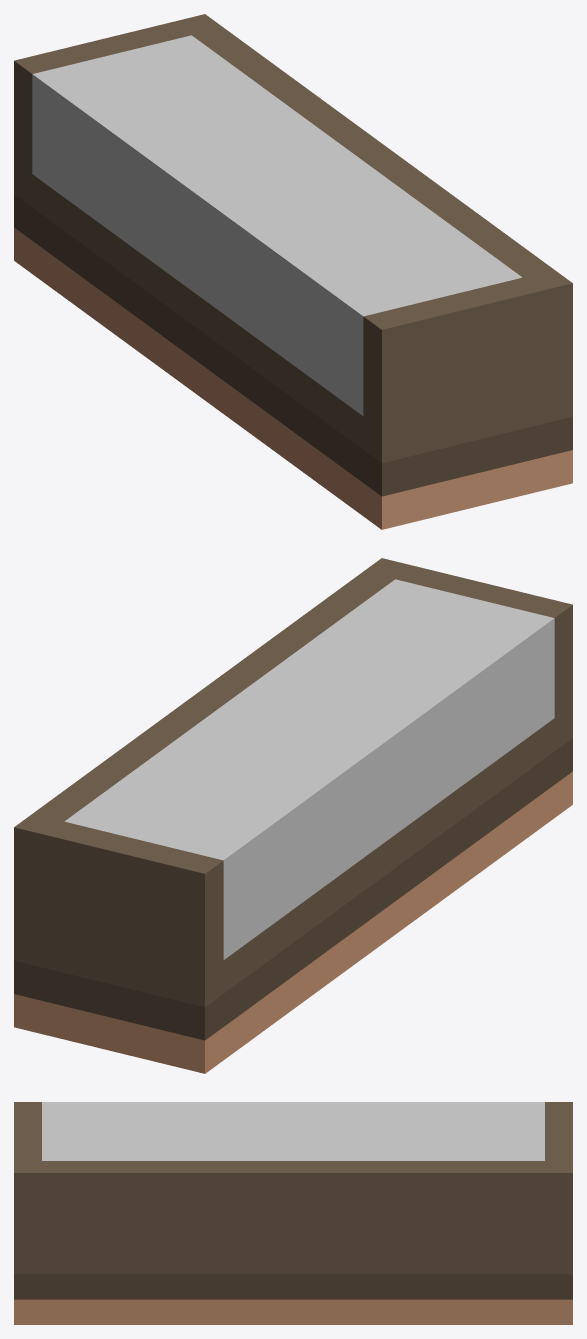
Rendered from Corner Cafe-10.obj.
The picture shows the model from 3 angles, top to bottom: view 1: azimuth 30°, elevation 25°; view 2: azimuth 150°, elevation 25°; view 3: azimuth 270°, elevation 25°; orthographic projection. The views are drawn at different scales.
Bounding box in the file's own units: 0.6 × 0.6 × 2.
Materials: 1 (1 with a texture image).
